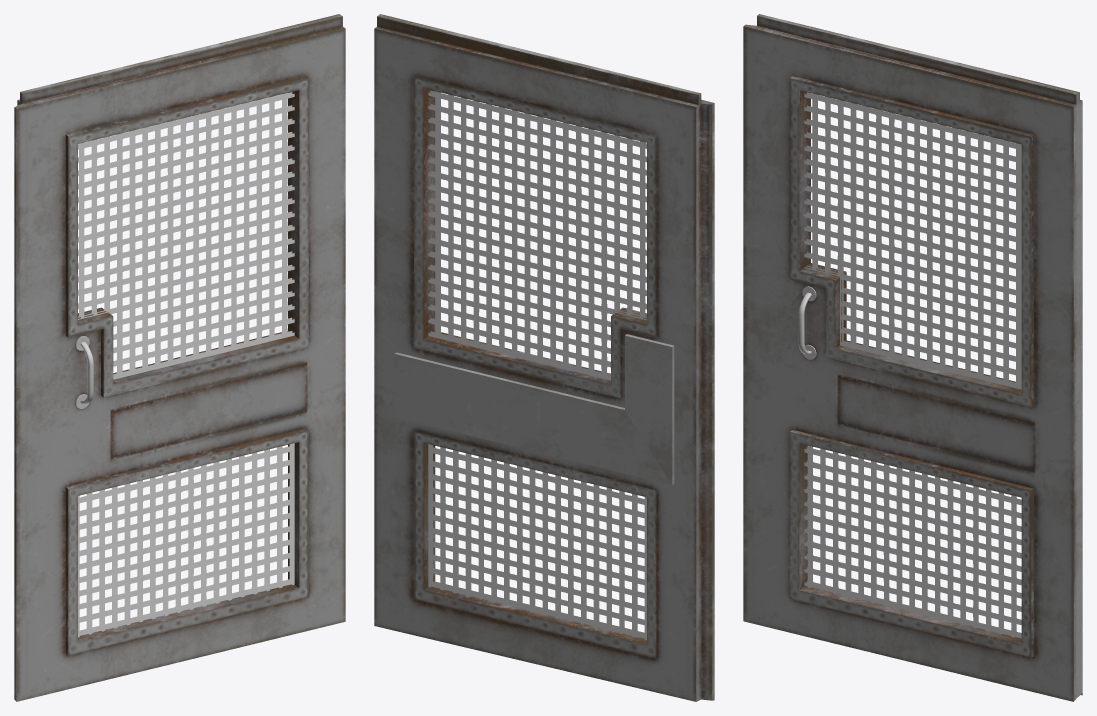
File: SM_Celldoor_03_Celldoor_03.fbx
3 renders of one model, left to right at view 1: azimuth 30°, elevation 25°; view 2: azimuth 150°, elevation 25°; view 3: azimuth 330°, elevation 25°, orthographic.
Parts seen in each view (by area): view 1: SM_Celldoor_03_Celldoor_03; view 2: SM_Celldoor_03_Celldoor_03; view 3: SM_Celldoor_03_Celldoor_03.
Part boxes in pixels (x1=…): SM_Celldoor_03_Celldoor_03: x1=14, y1=14, x2=345, y2=701; SM_Celldoor_03_Celldoor_03: x1=374, y1=14, x2=714, y2=701; SM_Celldoor_03_Celldoor_03: x1=743, y1=14, x2=1082, y2=701.
Size of the model in its own units: 138 by 14.62 by 241.
1 material, 1 textured.
